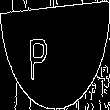P_N: (44, 29, 66, 81)
